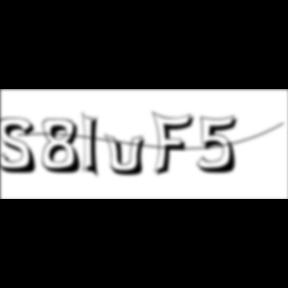5: (196, 114, 243, 176)
8: (42, 117, 88, 176)
F: (152, 110, 200, 178)
I: (82, 110, 106, 182)
S: (1, 117, 44, 176)
u: (104, 132, 152, 178)
